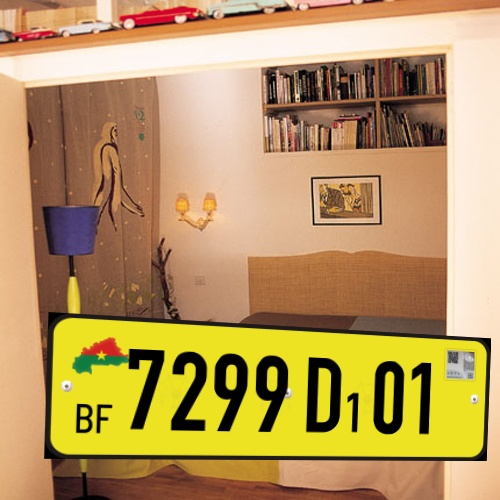plate: (38, 299, 498, 469)
